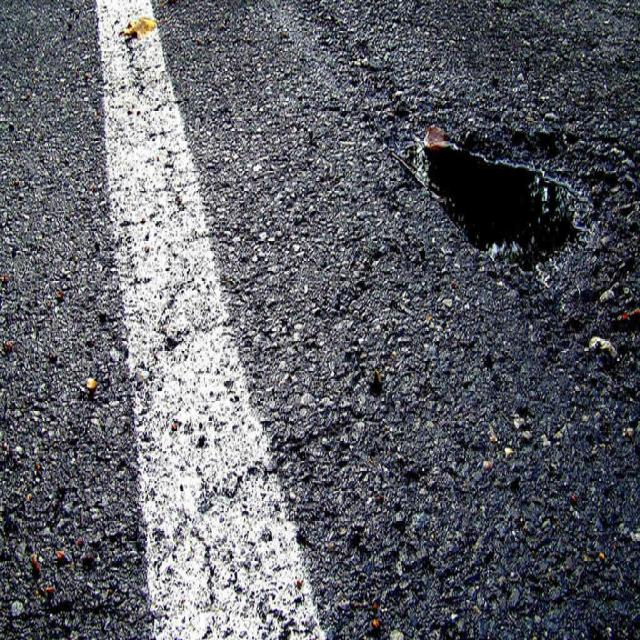Pothole: (396, 67, 604, 339)
